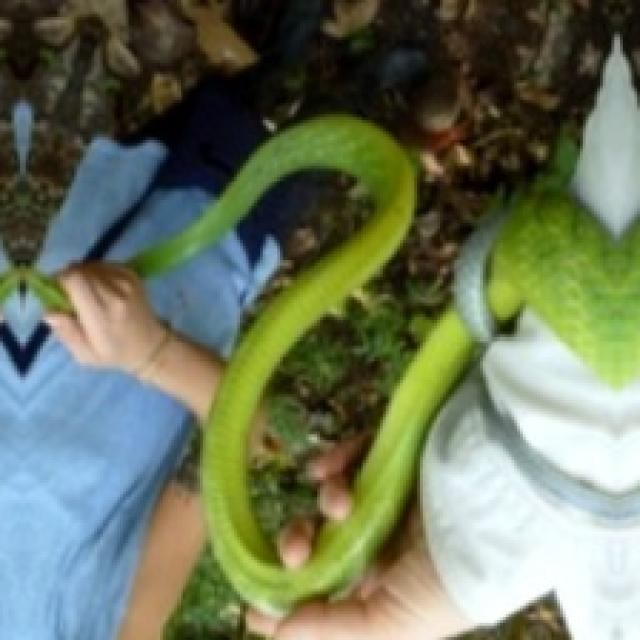red-tailed green ratsnake: (129, 119, 640, 612), (481, 387, 640, 526), (0, 268, 71, 312)
